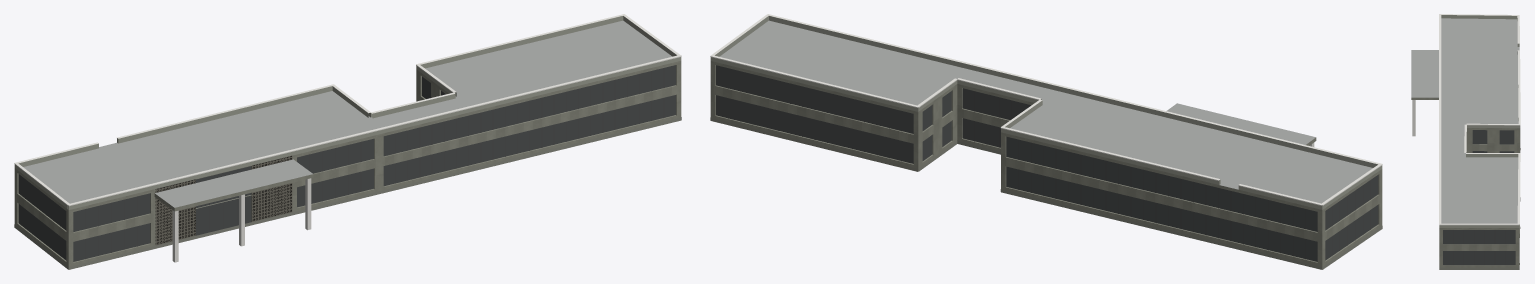
3 views of the same model, side by side, from view 1: azimuth 30°, elevation 25°; view 2: azimuth 150°, elevation 25°; view 3: azimuth 270°, elevation 25° (orthographic). The views are drawn at different scales.
Parts seen in each view (by area): view 1: humanitiesA__roof, humanitiesA__glass, humanitiesA__wall, humanitiesA__parapet, humanitiesA__trim, humanitiesA__screen, humanitiesA__base, humanitiesA__frame, humanitiesA__column, humanitiesA__canopy; view 2: humanitiesA__roof, humanitiesA__glass, humanitiesA__wall, humanitiesA__parapet, humanitiesA__trim, humanitiesA__base, humanitiesA__frame; view 3: humanitiesA__roof, humanitiesA__glass, humanitiesA__wall, humanitiesA__trim, humanitiesA__parapet, humanitiesA__base, humanitiesA__frame, humanitiesA__column, humanitiesA__canopy.
Boxes of the visible parts, bbox=[...] form: humanitiesA__roof: bbox=[23, 20, 671, 207]; humanitiesA__glass: bbox=[18, 65, 675, 261]; humanitiesA__wall: bbox=[14, 61, 681, 269]; humanitiesA__parapet: bbox=[14, 16, 681, 209]; humanitiesA__trim: bbox=[14, 14, 681, 206]; humanitiesA__screen: bbox=[155, 155, 292, 245]; humanitiesA__base: bbox=[14, 117, 681, 269]; humanitiesA__frame: bbox=[25, 68, 664, 258]; humanitiesA__column: bbox=[172, 178, 311, 262]; humanitiesA__canopy: bbox=[154, 174, 313, 211]; humanitiesA__roof: bbox=[719, 20, 1372, 203]; humanitiesA__glass: bbox=[716, 65, 1378, 261]; humanitiesA__wall: bbox=[710, 61, 1382, 269]; humanitiesA__parapet: bbox=[710, 16, 1382, 209]; humanitiesA__trim: bbox=[710, 14, 1382, 205]; humanitiesA__base: bbox=[710, 117, 1382, 269]; humanitiesA__frame: bbox=[728, 68, 1370, 259]; humanitiesA__roof: bbox=[1411, 18, 1519, 223]; humanitiesA__glass: bbox=[1443, 130, 1515, 265]; humanitiesA__wall: bbox=[1439, 128, 1520, 267]; humanitiesA__trim: bbox=[1439, 14, 1520, 225]; humanitiesA__parapet: bbox=[1439, 15, 1520, 227]; humanitiesA__base: bbox=[1439, 148, 1520, 269]; humanitiesA__frame: bbox=[1453, 230, 1505, 265]; humanitiesA__column: bbox=[1412, 100, 1415, 136]; humanitiesA__canopy: bbox=[1411, 97, 1438, 99].
Bounding box in the file's own units: 79.55 × 8 × 17.5.
11 materials, 3 textured.
